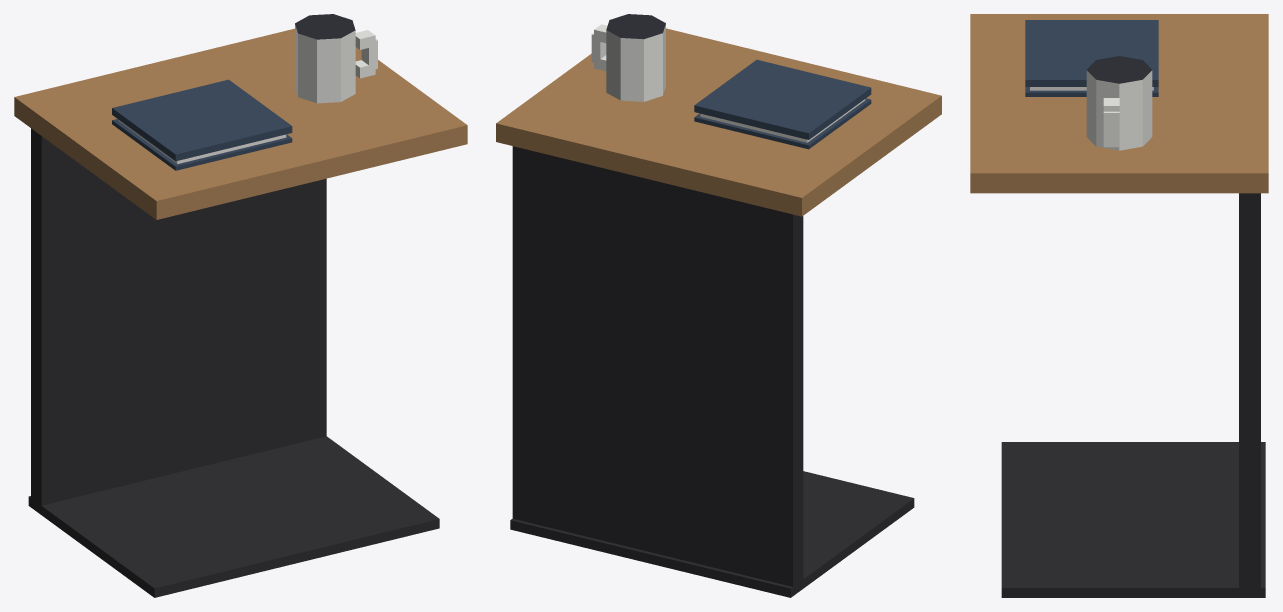
The model's file is FN_Table_Cframe.glb.
3 renders of one model, left to right at view 1: azimuth 30°, elevation 25°; view 2: azimuth 150°, elevation 25°; view 3: azimuth 270°, elevation 25°, orthographic. The views are drawn at different scales.
Parts seen in each view (by area): view 1: FN_Table_Cframe; view 2: FN_Table_Cframe; view 3: FN_Table_Cframe.
Part boxes in pixels (bbox=[...]): FN_Table_Cframe: bbox=[14, 14, 467, 597]; FN_Table_Cframe: bbox=[496, 14, 941, 597]; FN_Table_Cframe: bbox=[970, 14, 1268, 597].
Bounding box in the file's own units: 0.48 × 0.7 × 0.38.
Materials: 1 (1 with a texture image).
